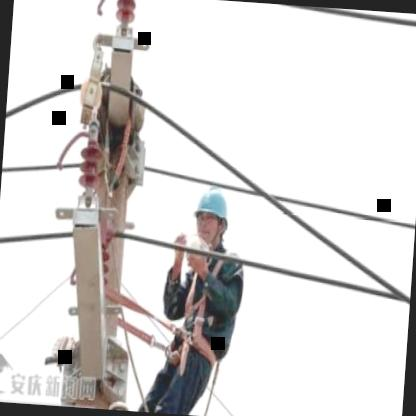helmet: (188, 184, 235, 248)
